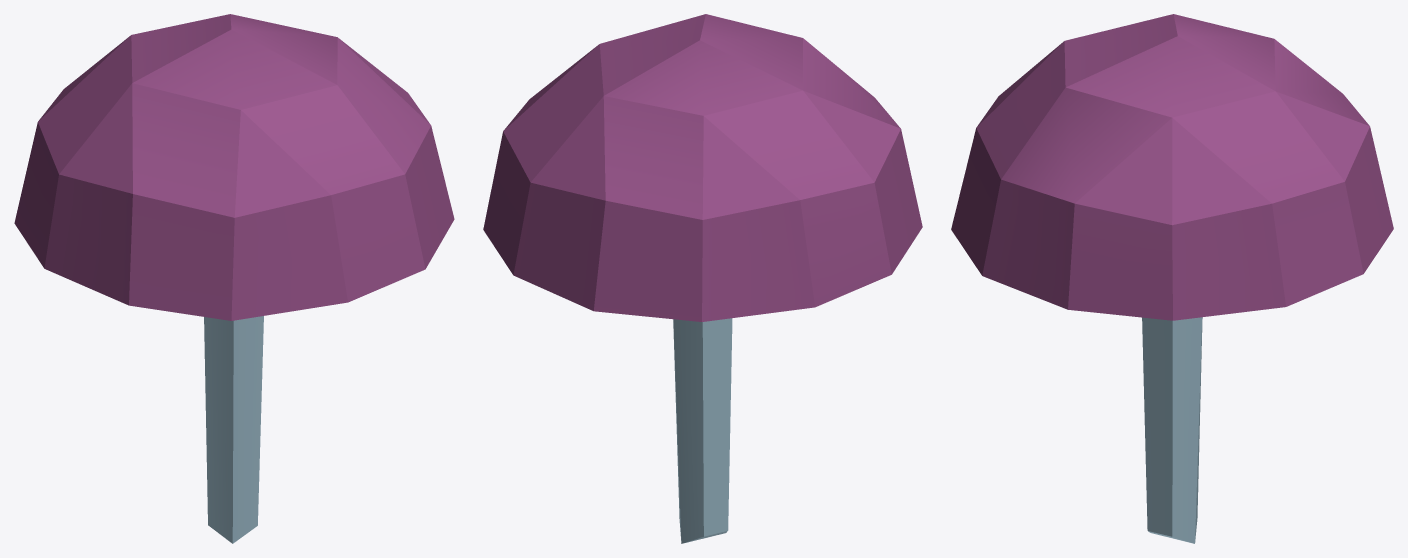
Rendered from Lepista.fbx.
3 views of the same model, side by side, from view 1: azimuth 30°, elevation 25°; view 2: azimuth 150°, elevation 25°; view 3: azimuth 270°, elevation 25° (orthographic).
Parts seen in each view (by area): view 1: Group5577; view 2: Group5577; view 3: Group5577.
Part boxes in pixels (left/top/right/bottom): Group5577: left=14, top=14, right=454, bottom=543; Group5577: left=483, top=14, right=922, bottom=543; Group5577: left=951, top=14, right=1393, bottom=543.
Size of the model in its own units: 36.66 by 46.25 by 36.9.
